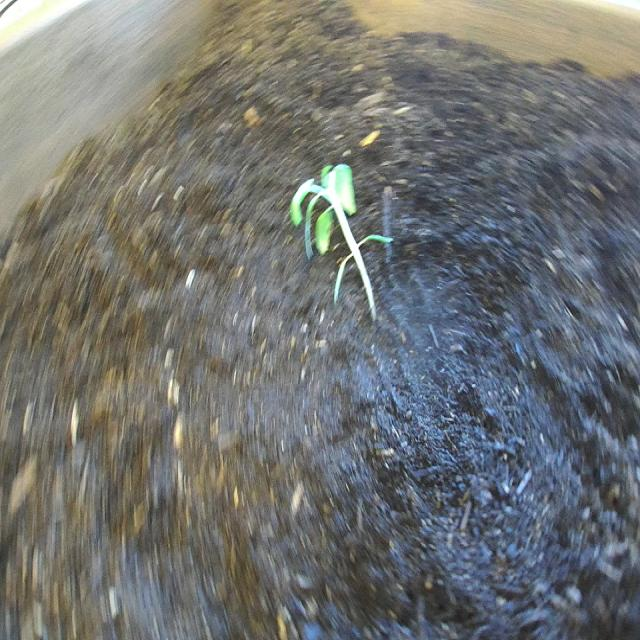Healthy: (278, 136, 404, 352)
